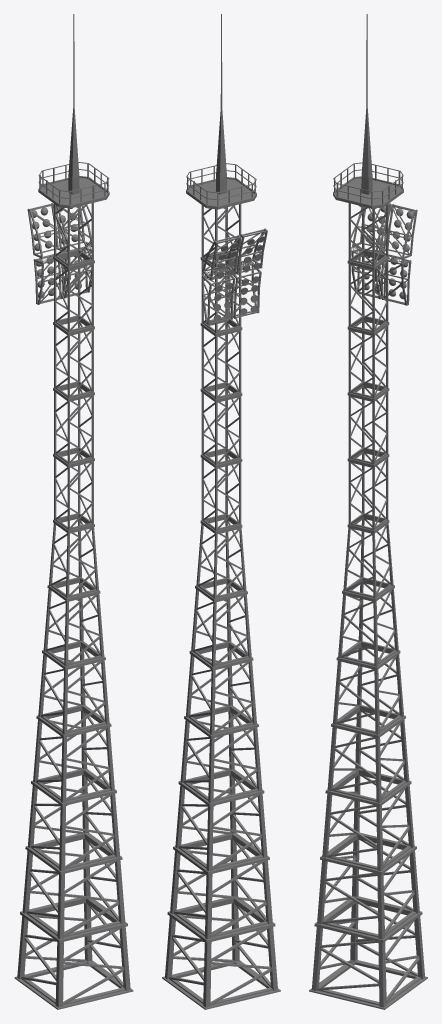
The model's file is Machta.FBX.
3 views of the same model, side by side, from view 1: azimuth 30°, elevation 25°; view 2: azimuth 210°, elevation 25°; view 3: azimuth 330°, elevation 25° (orthographic).
Parts seen in each view (by area): view 1: TowerPrimStage, TowerSecStage, TowerLight, TowerPlace; view 2: TowerPrimStage, TowerSecStage, TowerLight, TowerPlace; view 3: TowerPrimStage, TowerSecStage, TowerLight, TowerPlace.
Boxes of the visible parts, x1=… form: TowerPrimStage: x1=14, y1=516, x2=133, y2=1009; TowerSecStage: x1=53, y1=203, x2=94, y2=531; TowerLight: x1=27, y1=203, x2=91, y2=304; TowerPlace: x1=38, y1=14, x2=109, y2=208; TowerPrimStage: x1=162, y1=517, x2=280, y2=1009; TowerSecStage: x1=200, y1=204, x2=242, y2=532; TowerLight: x1=201, y1=228, x2=267, y2=325; TowerPlace: x1=186, y1=14, x2=256, y2=209; TowerPrimStage: x1=309, y1=516, x2=427, y2=1009; TowerSecStage: x1=347, y1=203, x2=389, y2=531; TowerLight: x1=351, y1=203, x2=417, y2=305; TowerPlace: x1=333, y1=14, x2=403, y2=208.
Bounding box in the file's own units: 328 × 4018 × 338.
